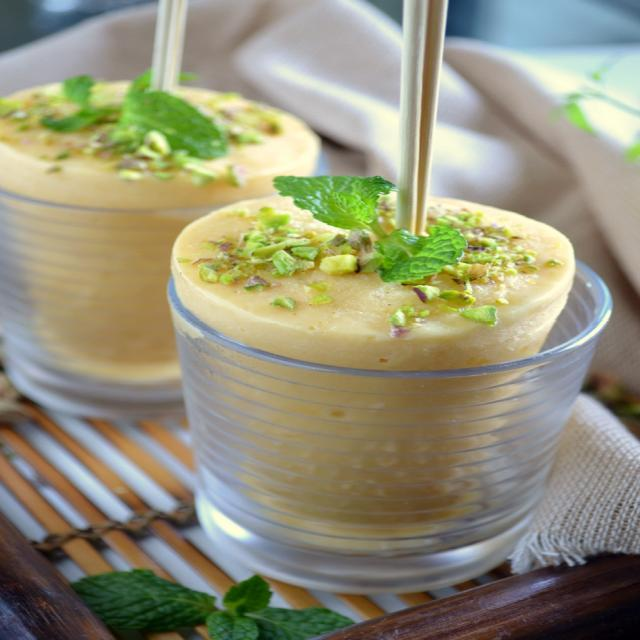kulfi: (0, 60, 606, 561)
